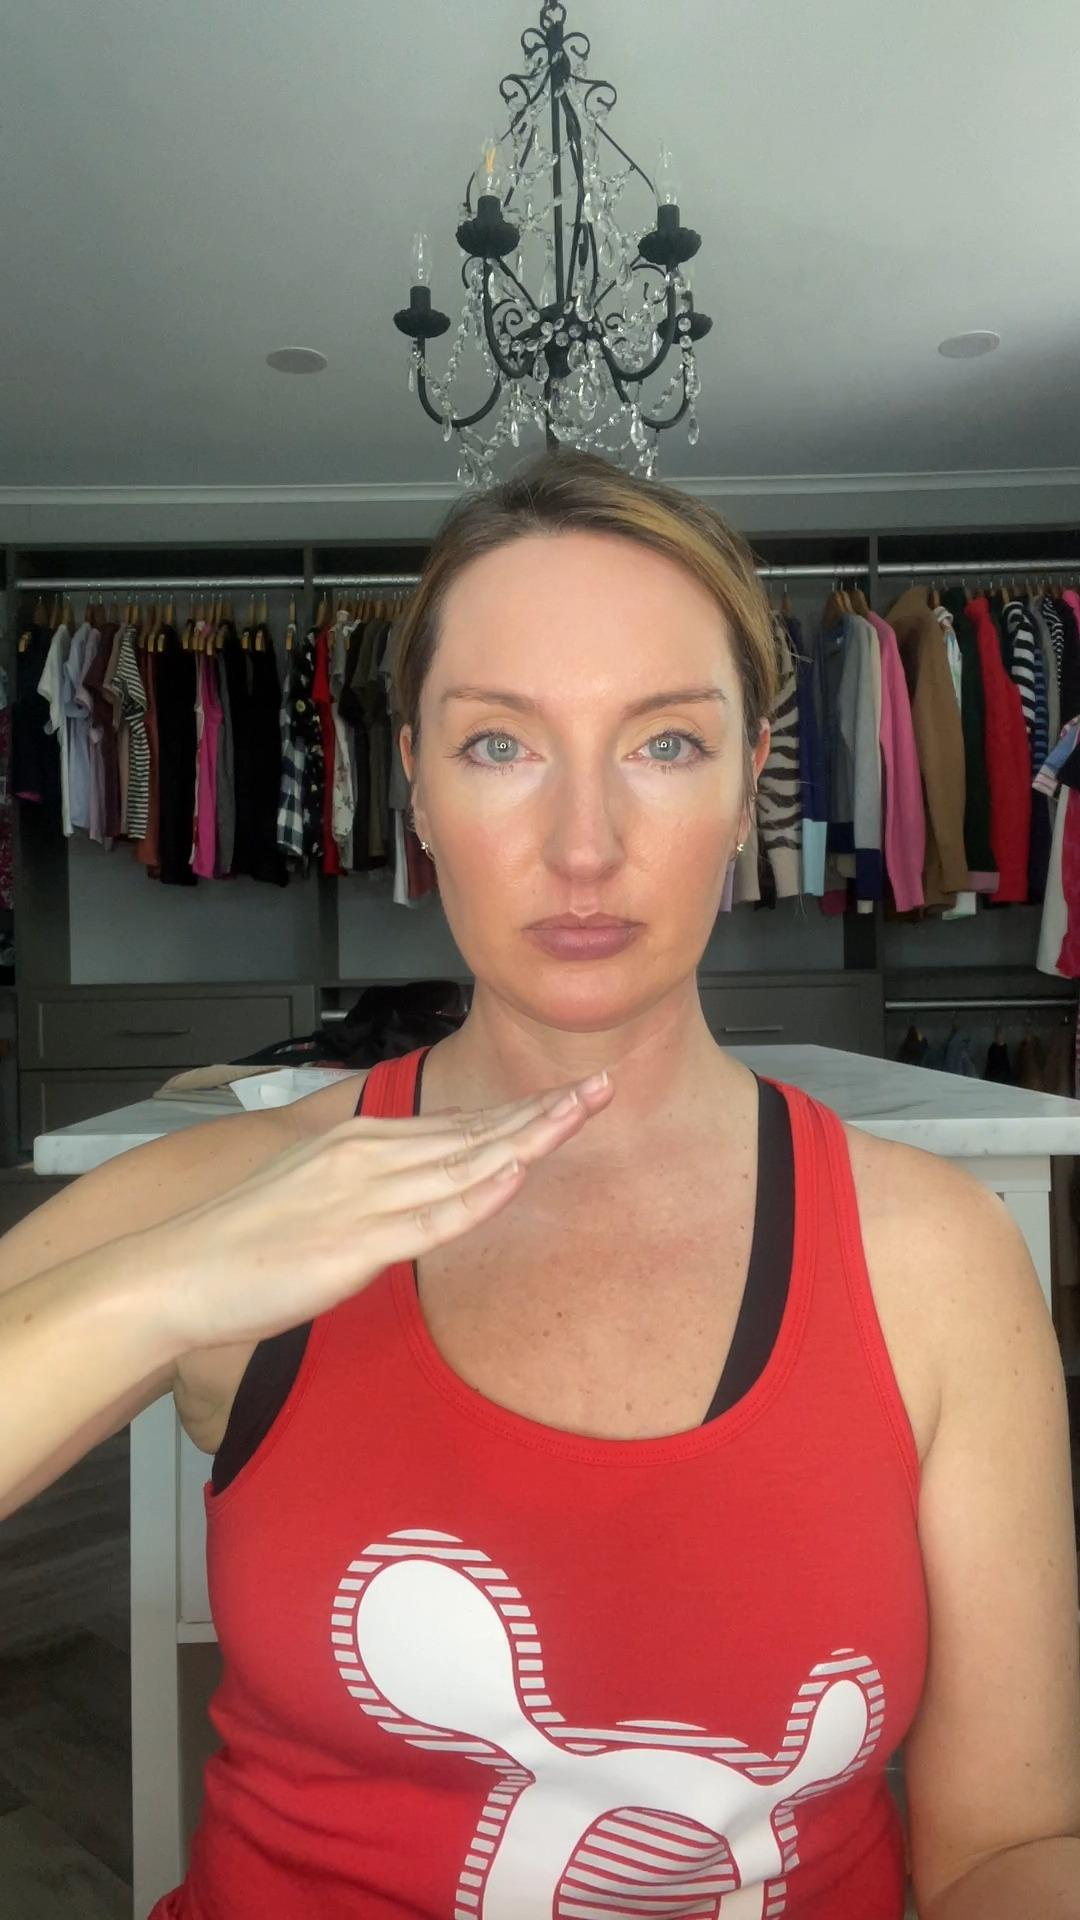Paper: (153, 1054, 625, 1349)
